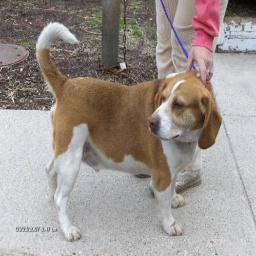dog: (33, 19, 222, 247)
